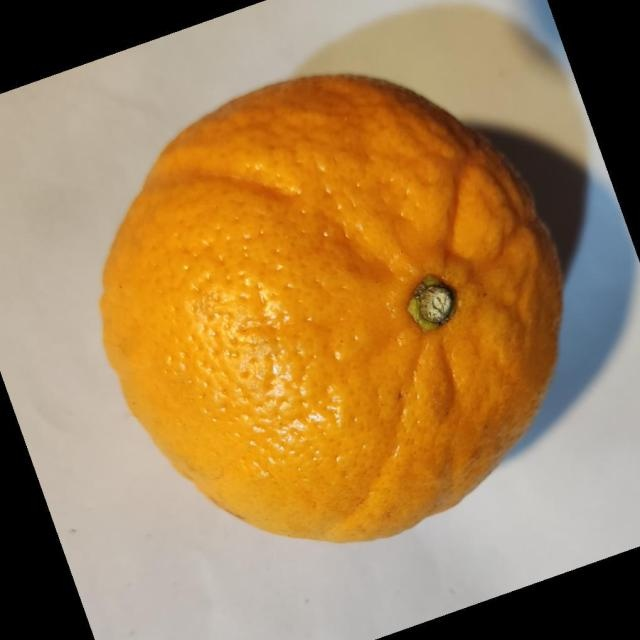agrume: (98, 71, 564, 544)
